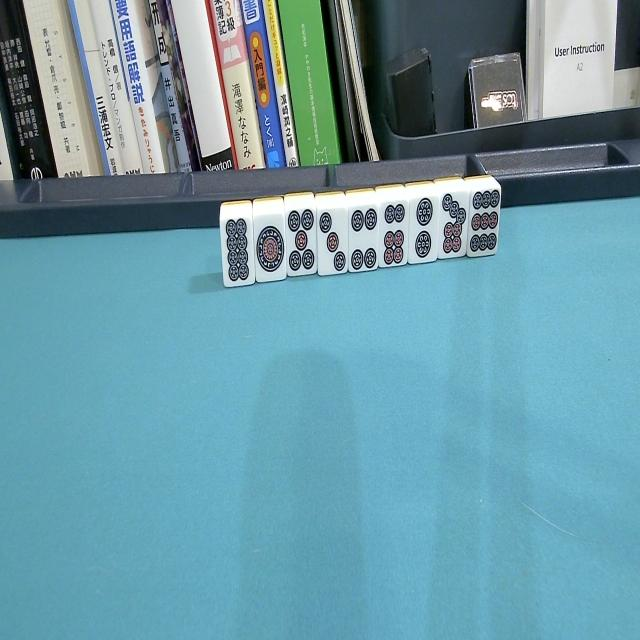1_pin: (251, 195, 288, 293)
2_pin: (404, 179, 444, 273)
3_pin: (312, 190, 351, 285)
4_pin: (344, 186, 382, 281)
5_pin: (282, 193, 319, 287)
6_pin: (376, 181, 412, 276)
7_pin: (436, 175, 470, 265)
8_pin: (218, 198, 256, 294)
9_pin: (462, 171, 504, 265)
